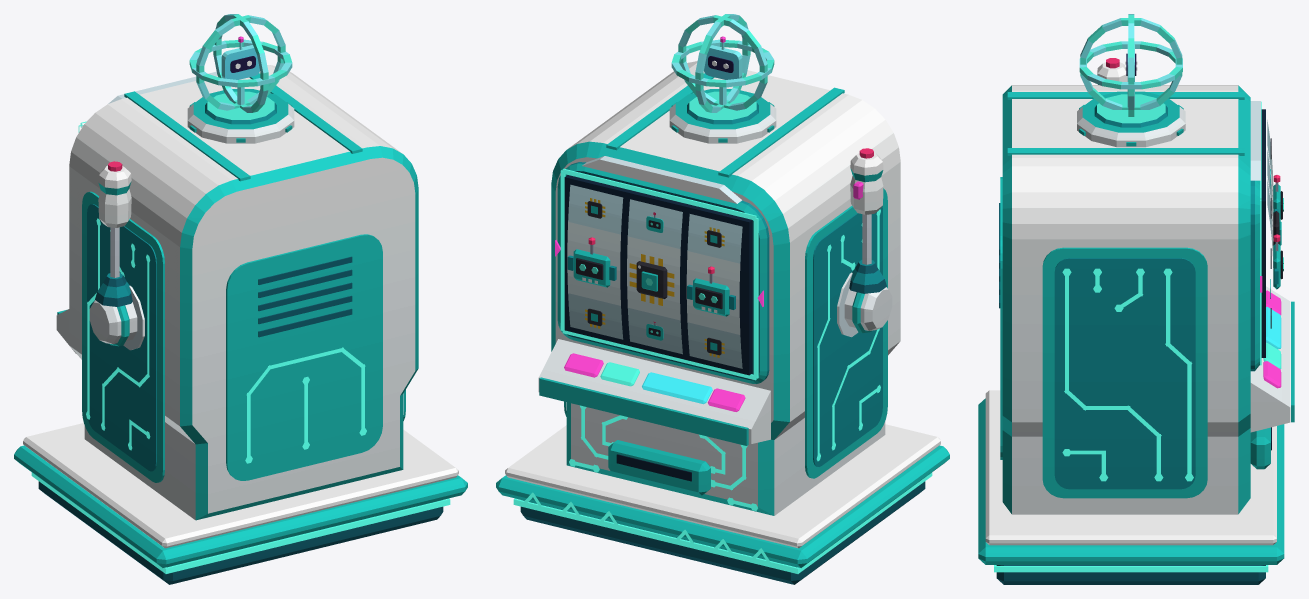
The model's file is CyberSpinMachine.glb.
3 views of the same model, side by side, from view 1: azimuth 30°, elevation 25°; view 2: azimuth 150°, elevation 25°; view 3: azimuth 270°, elevation 25° (orthographic). The views are drawn at different scales.
Parts seen in each view (by area): view 1: Cabinet, Base, Topper, NeonStrips, Lever; view 2: Cabinet, Screen, Base, NeonStrips, Topper, Lever; view 3: Cabinet, Base, Topper, NeonStrips, Screen, Lever.
Part boxes in pixels (x1=…): Cabinet: x1=56, y1=65, x2=418, y2=520; Base: x1=14, y1=423, x2=467, y2=584; Topper: x1=187, y1=14, x2=294, y2=143; NeonStrips: x1=31, y1=121, x2=450, y2=573; Lever: x1=89, y1=161, x2=137, y2=346; Cabinet: x1=538, y1=61, x2=900, y2=515; Screen: x1=564, y1=175, x2=752, y2=375; Base: x1=496, y1=424, x2=949, y2=584; NeonStrips: x1=513, y1=168, x2=932, y2=573; Topper: x1=669, y1=14, x2=776, y2=143; Lever: x1=844, y1=148, x2=892, y2=333; Cabinet: x1=999, y1=85, x2=1294, y2=514; Base: x1=978, y1=390, x2=1284, y2=584; Topper: x1=1077, y1=14, x2=1185, y2=147; NeonStrips: x1=994, y1=101, x2=1281, y2=572; Screen: x1=1261, y1=109, x2=1283, y2=357; Lever: x1=1097, y1=58, x2=1127, y2=84.
Size of the model in its own units: 6 by 8.99 by 5.17.
Materials: 2 (2 with a texture image).
